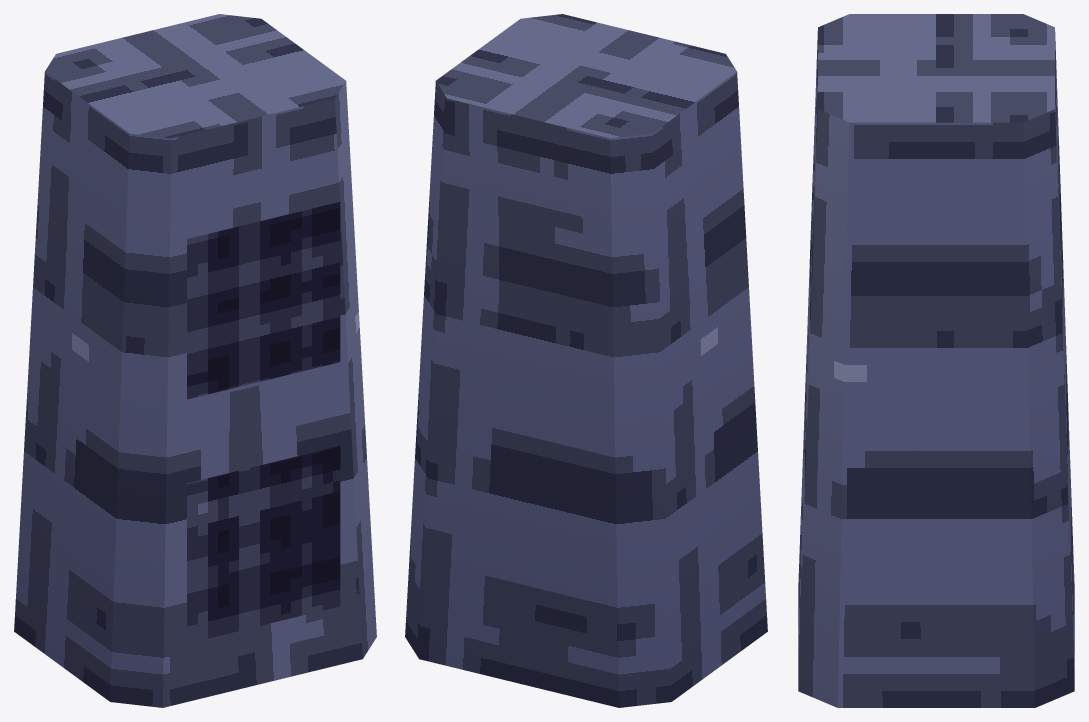
The model's file is cydress.speaker.glb.
The picture shows the model from 3 angles, left to right: view 1: azimuth 30°, elevation 25°; view 2: azimuth 150°, elevation 25°; view 3: azimuth 270°, elevation 25°; orthographic projection. The views are drawn at different scales.
Visible parts, largest first — view 1: kit_body, kit_card_details; view 2: kit_body; view 3: kit_body.
Part boxes in pixels (<box>): kit_body: <box>14,14,376,707</box>; kit_card_details: <box>187,202,340,643</box>; kit_body: <box>405,14,767,707</box>; kit_body: <box>798,14,1074,707</box>.
Size of the model in its own units: 0.8 by 1.6 by 0.705.
2 materials, 2 textured.
